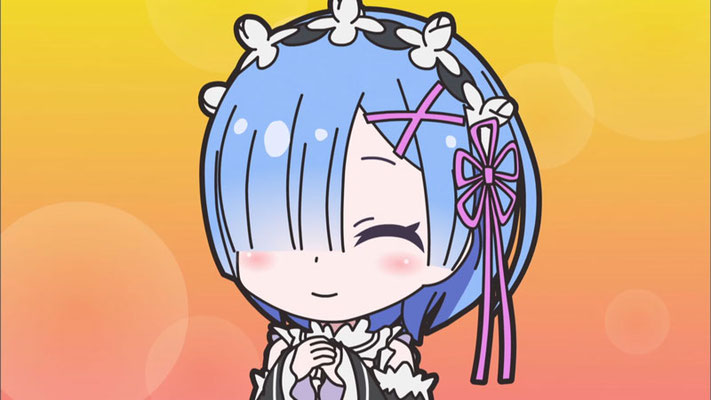rem: (195, 3, 544, 400)
